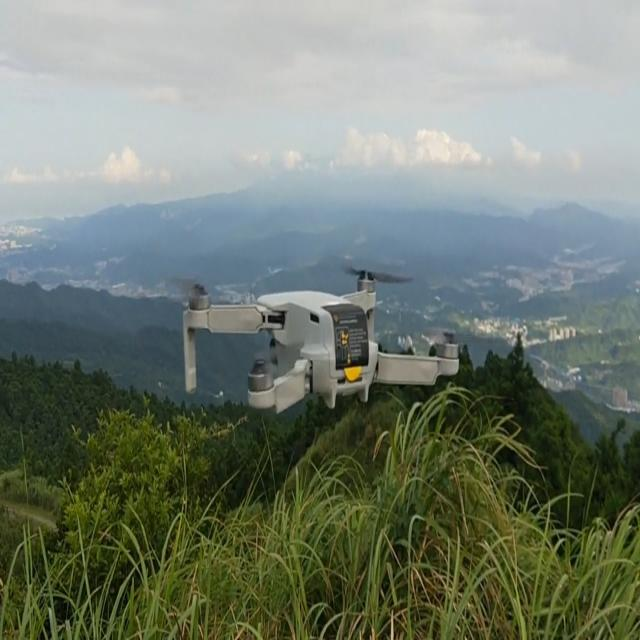Drone: (141, 249, 485, 414)
